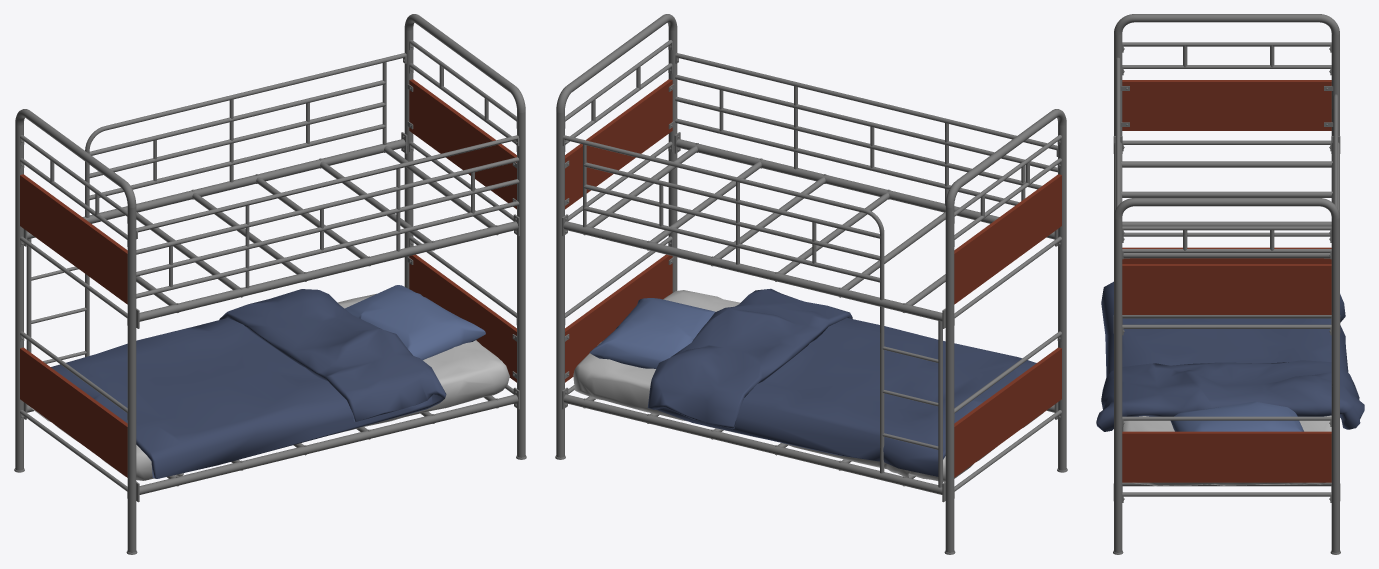
Rendered from DormAssetsBed.fbx.
3 views of the same model, side by side, from view 1: azimuth 30°, elevation 25°; view 2: azimuth 150°, elevation 25°; view 3: azimuth 270°, elevation 25° (orthographic). The views are drawn at different scales.
Visible parts, largest first — view 1: BunkBed_Frame_Connectors02; view 2: BunkBed_Frame_Connectors02; view 3: BunkBed_Frame_Connectors02.
Part boxes in pixels (x1,y1,x2,y2): BunkBed_Frame_Connectors02: (14,14,526,554); BunkBed_Frame_Connectors02: (555,14,1067,554); BunkBed_Frame_Connectors02: (1096,14,1364,554).
Size of the model in its own units: 123 by 205 by 180.
